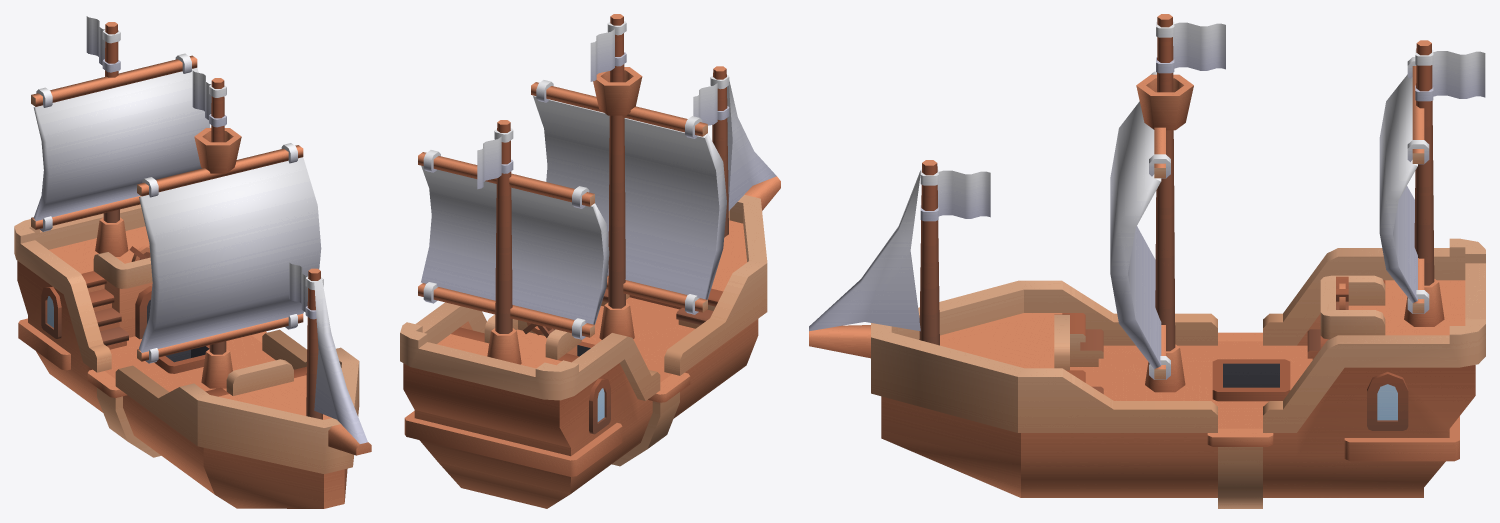
File: ship-large.glb
3 views of the same model, side by side, from view 1: azimuth 30°, elevation 25°; view 2: azimuth 150°, elevation 25°; view 3: azimuth 270°, elevation 25° (orthographic). The views are drawn at different scales.
Parts seen in each view (by area): view 1: ship-large, sail-a, sail-b, flag-b, flag-c, flag-a; view 2: ship-large, sail-a, sail-b, flag-b, flag-c, flag-a; view 3: ship-large, sail-a, sail-b, flag-c, flag-a, flag-b.
Part boxes in pixels (<box>): ship-large: <box>14,22,371,508</box>; sail-a: <box>137,143,321,363</box>; sail-b: <box>31,53,210,231</box>; flag-b: <box>192,70,226,127</box>; flag-c: <box>86,16,120,72</box>; flag-a: <box>289,262,323,319</box>; ship-large: <box>400,14,780,508</box>; sail-a: <box>531,80,726,314</box>; sail-b: <box>418,150,609,339</box>; flag-b: <box>590,21,626,81</box>; flag-c: <box>477,128,513,189</box>; flag-a: <box>693,75,729,125</box>; ship-large: <box>809,14,1485,508</box>; sail-a: <box>1110,71,1170,379</box>; sail-b: <box>1379,57,1429,313</box>; flag-c: <box>1415,49,1485,101</box>; flag-a: <box>920,169,990,221</box>; flag-b: <box>1156,21,1225,73</box>.
Bounding box in the file's own units: 4.8 × 9.96 × 13.1.
Materials: 1 (1 with a texture image).
